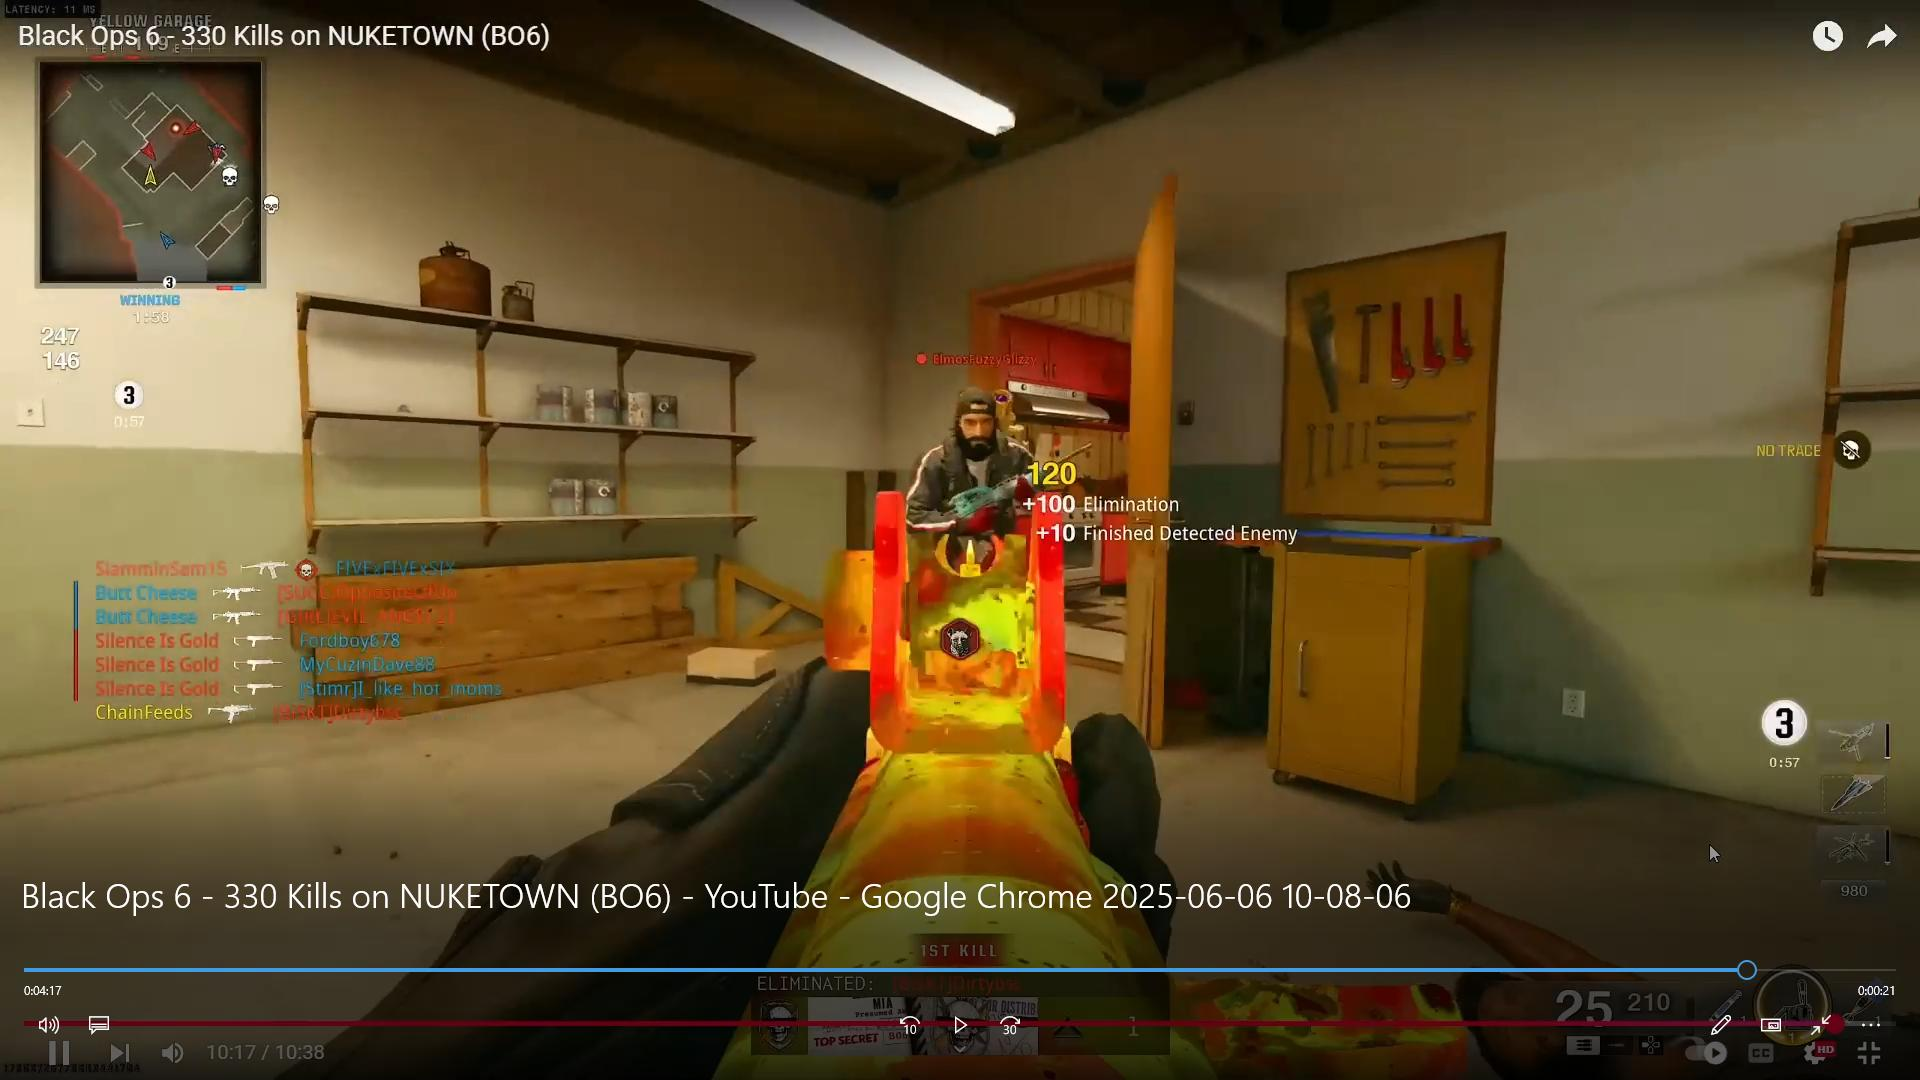Enemy: (882, 322, 1064, 476)
